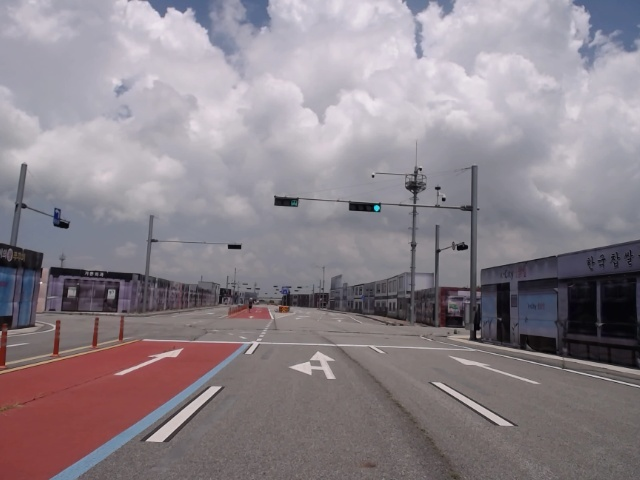straight_green_4: (348, 201, 381, 212)
